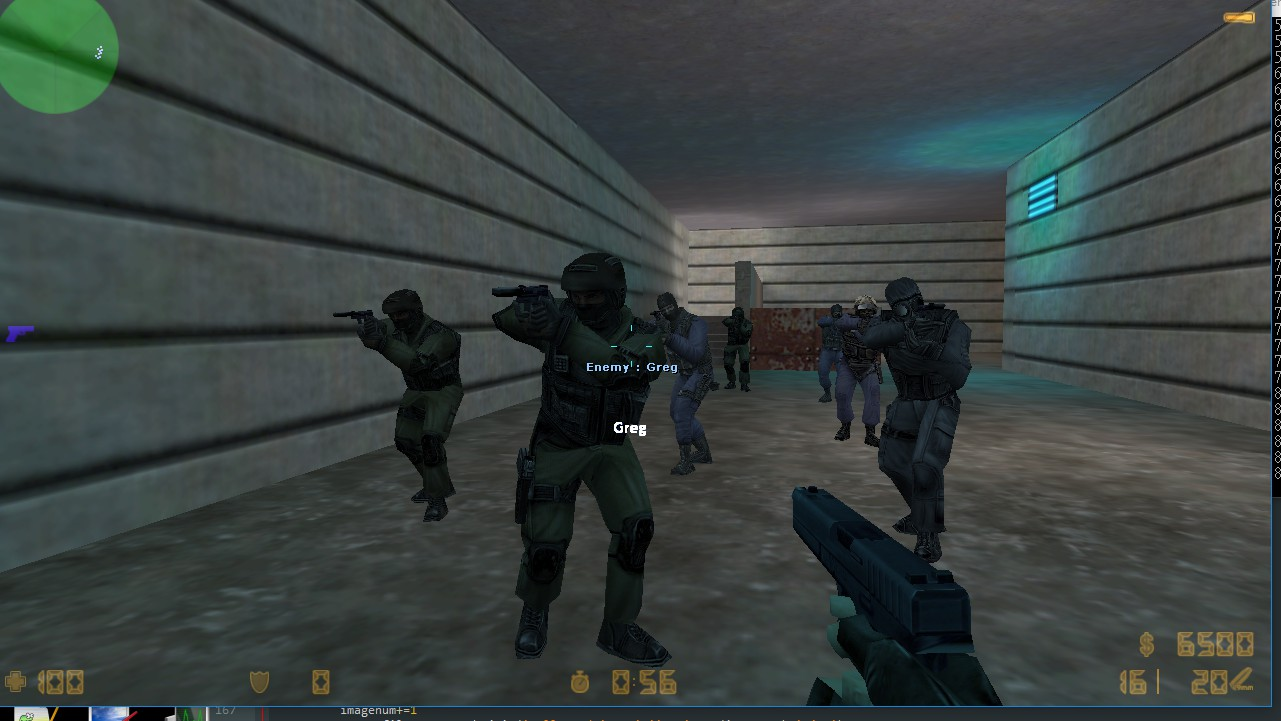person: (489, 241, 665, 672), (882, 274, 970, 559), (356, 285, 457, 532), (651, 281, 716, 469), (838, 290, 889, 439), (717, 299, 759, 391), (815, 300, 842, 395)
